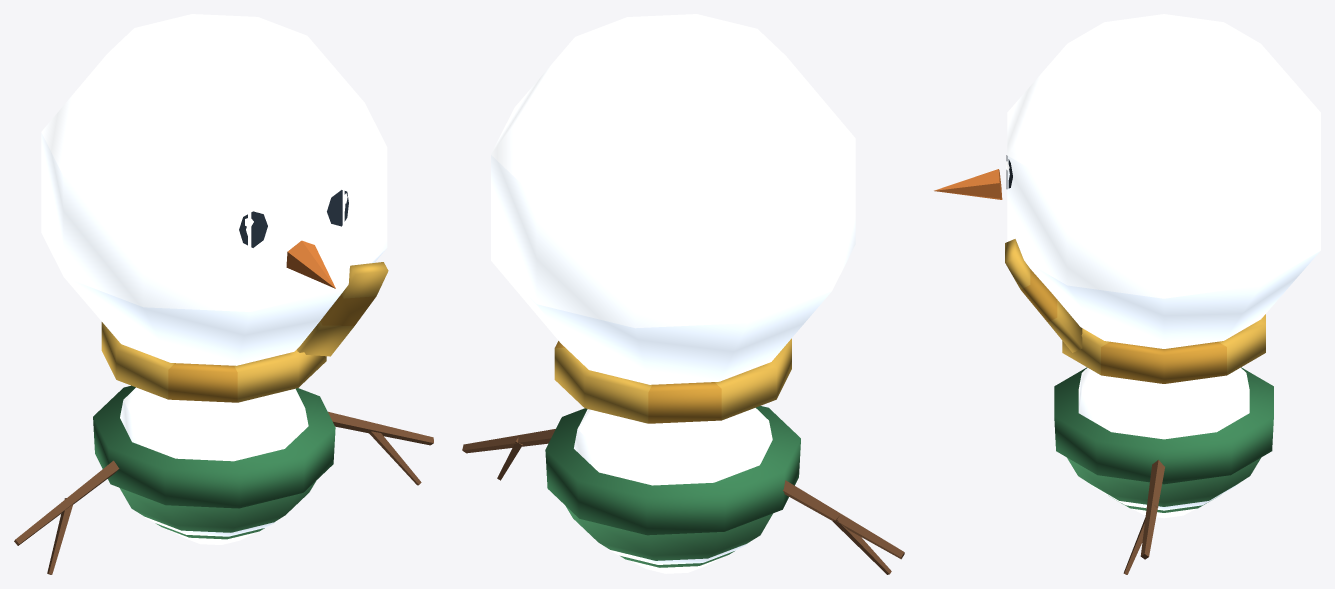
File: snowman-upside.glb
3 renders of one model, left to right at view 1: azimuth 30°, elevation 25°; view 2: azimuth 150°, elevation 25°; view 3: azimuth 270°, elevation 25°, orthographic. The views are drawn at different scales.
Parts seen in each view (by area): view 1: snowman-upside; view 2: snowman-upside; view 3: snowman-upside.
Boxes of the visible parts, bbox=[...] form: snowman-upside: bbox=[14, 14, 433, 574]; snowman-upside: bbox=[462, 14, 904, 574]; snowman-upside: bbox=[934, 14, 1320, 574].
Size of the model in its own units: 2.38 by 2.78 by 2.01.
